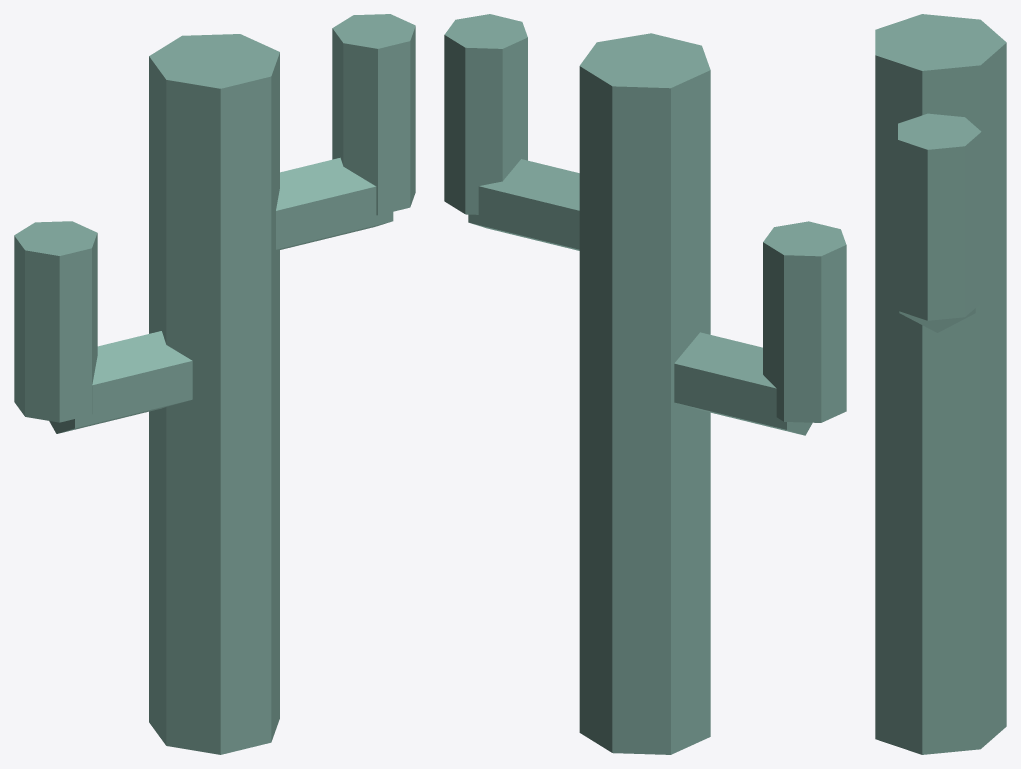
File: cactus.glb
3 renders of one model, left to right at view 1: azimuth 30°, elevation 25°; view 2: azimuth 150°, elevation 25°; view 3: azimuth 270°, elevation 25°, orthographic. The views are drawn at different scales.
Visible parts, largest first — view 1: cactus__stem, cactus__arm_tip, cactus__arm_tip.001, cactus__arm, cactus__arm.001; view 2: cactus__stem, cactus__arm_tip, cactus__arm_tip.001, cactus__arm, cactus__arm.001; view 3: cactus__stem, cactus__arm_tip.001, cactus__arm.001.
Part boxes in pixels (box(x1,y1,x2,y2)): cactus__stem: box(149, 34, 279, 754); cactus__arm_tip: box(14, 221, 97, 422); cactus__arm_tip.001: box(332, 14, 415, 215); cactus__arm: box(49, 331, 192, 433); cactus__arm.001: box(276, 157, 393, 249); cactus__stem: box(579, 33, 710, 754); cactus__arm_tip: box(763, 221, 846, 422); cactus__arm_tip.001: box(444, 14, 527, 214); cactus__arm: box(674, 332, 812, 435); cactus__arm.001: box(468, 159, 579, 250); cactus__stem: box(875, 14, 1006, 754); cactus__arm_tip.001: box(898, 113, 981, 320); cactus__arm.001: box(899, 308, 975, 332).
Size of the model in its own units: 2.21 by 3.6 by 0.6273.
